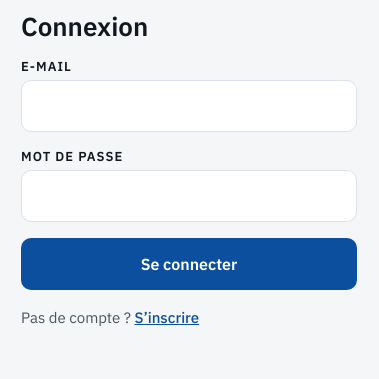
Test: LoginForm › affiche le message d’erreur de l’API sans rediriger (§5.2 : message générique)
The image size is (379, 379).
Type "jane@example.com" into the field labelled "E-mail" at (189, 106), box [21,80,357,132]
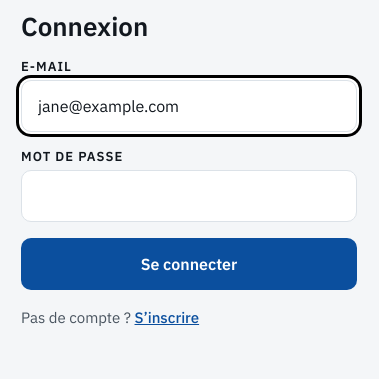
Type "mauvais-mdp" into the password field labelled "Mot de passe" at (189, 196), box [21,170,357,222]
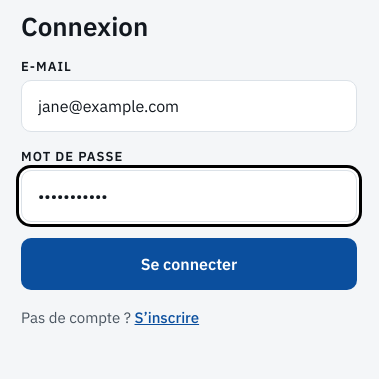
Click the button "Se connecter" at (189, 264), box [21,238,357,290]
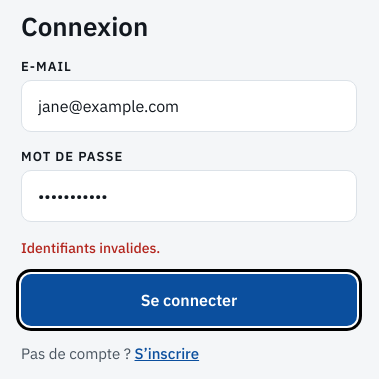
Expected: the message reads "Identifiants invalides.", [21,239,160,257]
